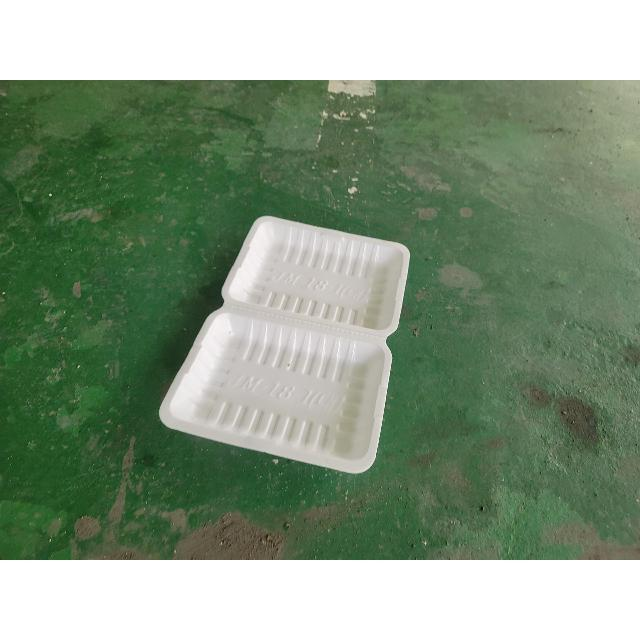Plastico descartable: (159, 217, 409, 476)
